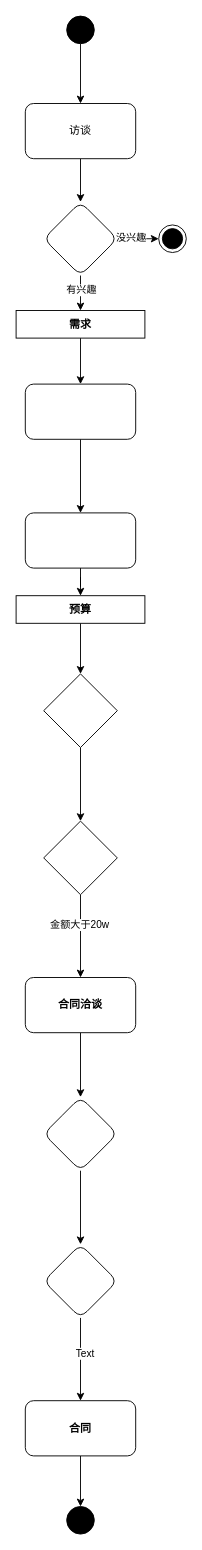
Some shapes in this 202 by 1550 pixel diagram are drawn without their labels. The centre of each missing label's shape, as x and y in pixels:
"提问" belongs at (x=80, y=411).
"算成本" belongs at (x=80, y=540).
